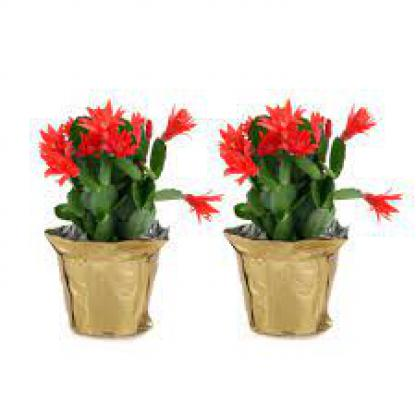Aglonema: (54, 94, 416, 305), (8, 32, 110, 188)
